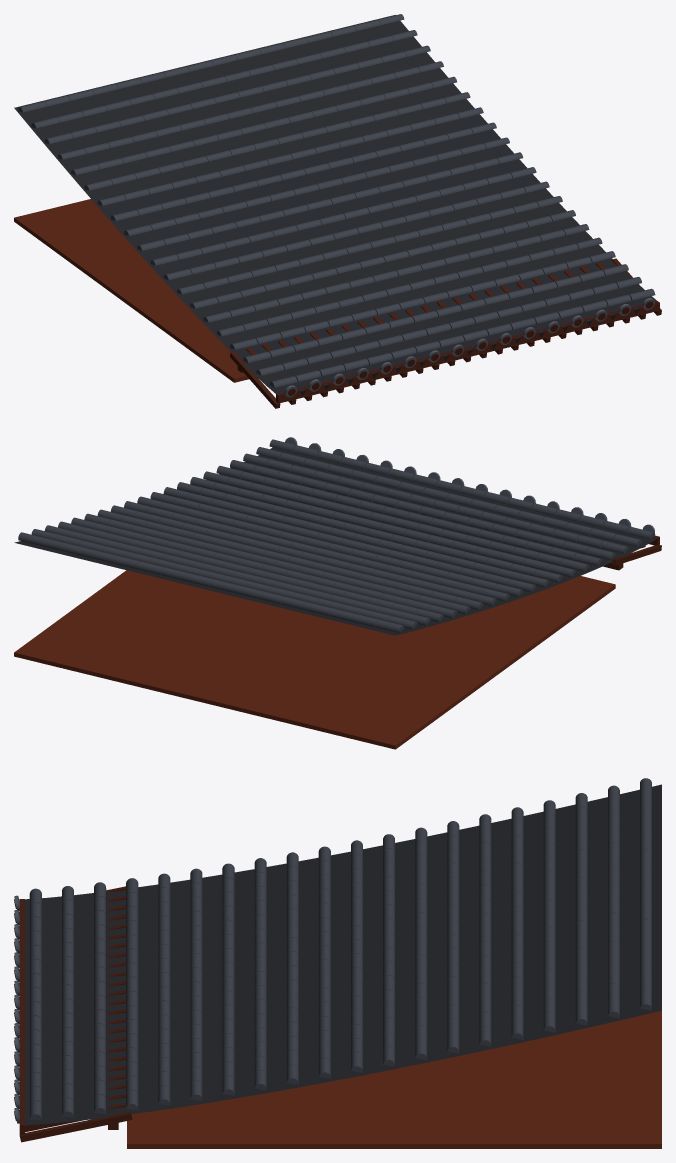
File: pal1-inn-roof-front.glb
The picture shows the model from 3 angles, top to bottom: view 1: azimuth 30°, elevation 25°; view 2: azimuth 150°, elevation 25°; view 3: azimuth 270°, elevation 25°; orthographic projection. The views are drawn at different scales.
Parts seen in each view (by area): view 1: Pal1RoofFront; view 2: Pal1RoofFront; view 3: Pal1RoofFront.
Part boxes in pixels (box(x1,y1,x2,y2)): Pal1RoofFront: box(14, 14, 661, 408); Pal1RoofFront: box(14, 437, 661, 749); Pal1RoofFront: box(14, 778, 661, 1148).
Size of what is drawn, in the model's own units: 4.05 by 1.19 by 4.84.
